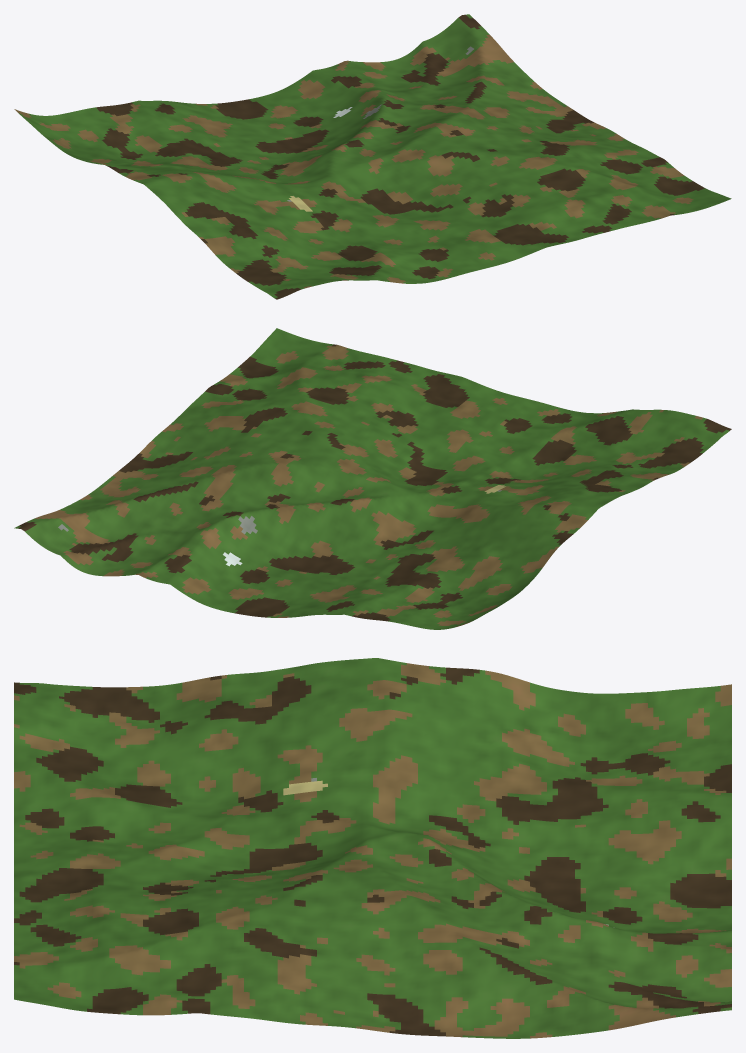
The model's file is chunk_0_1.glb.
3 views of the same model, one above another, from view 1: azimuth 30°, elevation 25°; view 2: azimuth 150°, elevation 25°; view 3: azimuth 270°, elevation 25° (orthographic). The views are drawn at different scales.
Visible parts, largest first — view 1: Surface_Grass, Surface_Dirt, Surface_Mud; view 2: Surface_Grass, Surface_Dirt, Surface_Mud; view 3: Surface_Grass, Surface_Dirt, Surface_Mud.
Boxes of the visible parts, left/top/right/bottom form: Surface_Grass: left=18, top=14, right=731, bottom=298; Surface_Dirt: left=14, top=34, right=693, bottom=288; Surface_Mud: left=96, top=14, right=704, bottom=299; Surface_Grass: left=14, top=328, right=729, bottom=629; Surface_Dirt: left=35, top=345, right=702, bottom=626; Surface_Mud: left=18, top=344, right=731, bottom=621; Surface_Grass: left=14, top=658, right=731, bottom=1038; Surface_Dirt: left=14, top=663, right=731, bottom=1038; Surface_Mud: left=14, top=667, right=731, bottom=1036.
Bounding box in the file's own units: 256 × 36.19 × 256.
